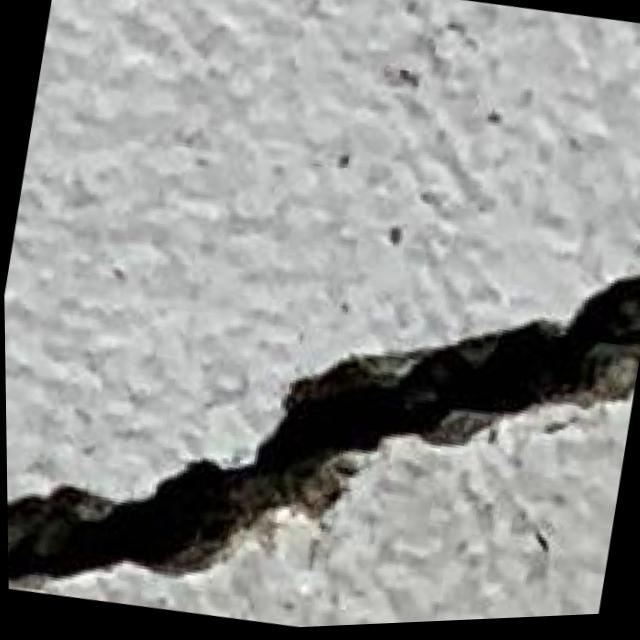Crack: (2, 167, 640, 640)
